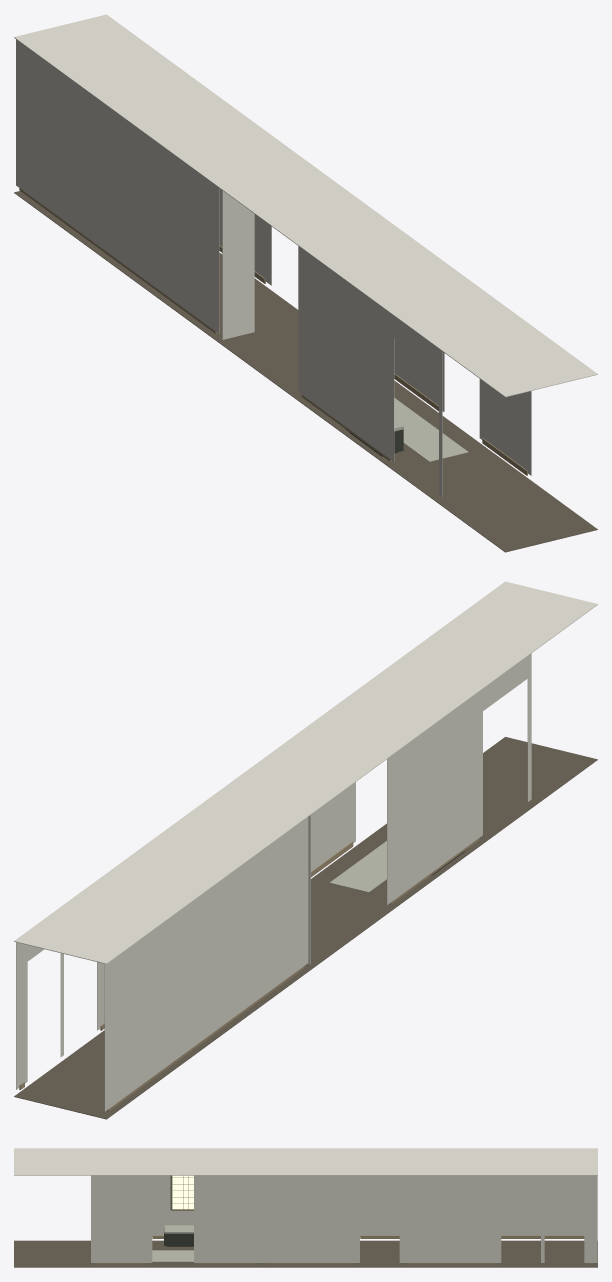
The model's file is corridor-3.glb.
3 views of the same model, one above another, from view 1: azimuth 30°, elevation 25°; view 2: azimuth 150°, elevation 25°; view 3: azimuth 270°, elevation 25° (orthographic). The views are drawn at different scales.
Visible parts, largest first — view 1: DESIGN | Entrance coordinated ceiling, DESIGN | Entrance paired wall finish, DESIGN | Entrance floor finish, DESIGN | Entrance paired wall finish.003, DESIGN | Arch approach finish, DESIGN | Entrance paired wall finish.013, DESIGN | Entrance quiet runner, DESIGN | Entrance paired wall finish.012, DESIGN | Entrance paired wall finish.006, DESIGN | Entrance paired wall finish.002; view 2: DESIGN | Entrance coordinated ceiling, DESIGN | Entrance paired wall finish, DESIGN | Entrance floor finish, DESIGN | Entrance paired wall finish.003, DESIGN | Entrance paired wall finish.012, DESIGN | Entrance paired wall finish.005, DESIGN | Entrance quiet runner, DESIGN | Entrance paired wall finish.002, DESIGN | Entrance paired wall finish.001; view 3: DESIGN | Entrance coordinated ceiling, DESIGN | Entrance paired wall finish.006, DESIGN | Entrance paired wall finish.009, DESIGN | Entrance floor finish, DESIGN | Entrance paired wall finish.012, DESIGN | Entrance paired wall finish, DESIGN | Entrance paired wall finish.013, DESIGN | Entrance paired wall finish.003, DESIGN | Entrance paired wall finish.005, DESIGN | Kumiko opal diffuser, DESIGN | Entrance paired wall finish.007, DESIGN | Entrance paired wall finish.010 (+8 smaller).
Boxes of the visible parts, x1=… form: DESIGN | Entrance coordinated ceiling: x1=14, y1=14, x2=597, y2=397; DESIGN | Entrance paired wall finish: x1=16, y1=39, x2=219, y2=333; DESIGN | Entrance floor finish: x1=14, y1=191, x2=597, y2=552; DESIGN | Entrance paired wall finish.003: x1=298, y1=246, x2=394, y2=461; DESIGN | Arch approach finish: x1=222, y1=190, x2=254, y2=339; DESIGN | Entrance paired wall finish.013: x1=479, y1=379, x2=531, y2=475; DESIGN | Entrance quiet runner: x1=394, y1=398, x2=468, y2=461; DESIGN | Entrance paired wall finish.012: x1=394, y1=339, x2=444, y2=411; DESIGN | Entrance paired wall finish.006: x1=219, y1=188, x2=268, y2=283; DESIGN | Entrance paired wall finish.002: x1=394, y1=316, x2=438, y2=370; DESIGN | Entrance coordinated ceiling: x1=14, y1=581, x2=597, y2=964; DESIGN | Entrance paired wall finish: x1=104, y1=817, x2=308, y2=1111; DESIGN | Entrance floor finish: x1=14, y1=737, x2=597, y2=1119; DESIGN | Entrance paired wall finish.003: x1=387, y1=689, x2=482, y2=904; DESIGN | Entrance paired wall finish.012: x1=311, y1=782, x2=355, y2=871; DESIGN | Entrance paired wall finish.005: x1=16, y1=942, x2=27, y2=1089; DESIGN | Entrance quiet runner: x1=329, y1=841, x2=386, y2=892; DESIGN | Entrance paired wall finish.002: x1=483, y1=656, x2=527, y2=710; DESIGN | Entrance paired wall finish.001: x1=527, y1=653, x2=531, y2=801; DESIGN | Entrance coordinated ceiling: x1=14, y1=1148, x2=597, y2=1175; DESIGN | Entrance paired wall finish.006: x1=402, y1=1175, x2=501, y2=1262; DESIGN | Entrance paired wall finish.009: x1=262, y1=1175, x2=359, y2=1262; DESIGN | Entrance floor finish: x1=14, y1=1240, x2=597, y2=1267; DESIGN | Entrance paired wall finish.012: x1=194, y1=1175, x2=262, y2=1262; DESIGN | Entrance paired wall finish: x1=360, y1=1176, x2=584, y2=1236; DESIGN | Entrance paired wall finish.013: x1=91, y1=1175, x2=152, y2=1262; DESIGN | Entrance paired wall finish.003: x1=152, y1=1175, x2=193, y2=1236; DESIGN | Entrance paired wall finish.005: x1=584, y1=1175, x2=597, y2=1262; DESIGN | Kumiko opal diffuser: x1=172, y1=1175, x2=193, y2=1209; DESIGN | Entrance paired wall finish.007: x1=501, y1=1175, x2=540, y2=1191; DESIGN | Entrance paired wall finish.010: x1=360, y1=1175, x2=399, y2=1191.
Size of the model in its own units: 1.7 by 2.73 by 15.61.
